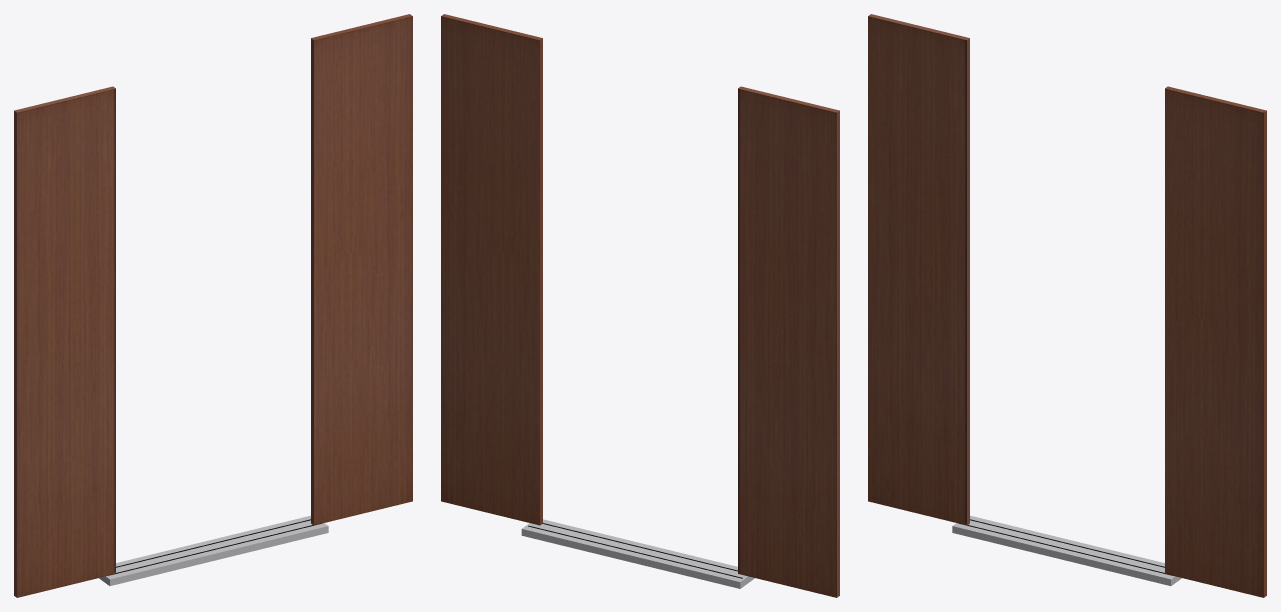
The model's file is cabin_door_TM030.glb.
The picture shows the model from 3 angles, left to right: view 1: azimuth 30°, elevation 25°; view 2: azimuth 150°, elevation 25°; view 3: azimuth 330°, elevation 25°; orthographic projection.
Parts seen in each view (by area): view 1: Car_Door_L, Car_Door_R, Door_Sill; view 2: Car_Door_L, Car_Door_R, Door_Sill; view 3: Car_Door_R, Car_Door_L, Door_Sill.
Boxes of the visible parts, x1=… form: Car_Door_L: x1=14, y1=86, x2=115, y2=597; Car_Door_R: x1=311, y1=14, x2=412, y2=525; Door_Sill: x1=99, y1=515, x2=328, y2=585; Car_Door_L: x1=738, y1=86, x2=839, y2=597; Car_Door_R: x1=441, y1=14, x2=542, y2=525; Door_Sill: x1=521, y1=519, x2=754, y2=588; Car_Door_R: x1=1165, y1=86, x2=1266, y2=597; Car_Door_L: x1=868, y1=14, x2=969, y2=525; Door_Sill: x1=952, y1=515, x2=1181, y2=585.
Bounding box in the file's own units: 1.81 × 2.15 × 0.12.
Materials: 3 (1 with a texture image).
